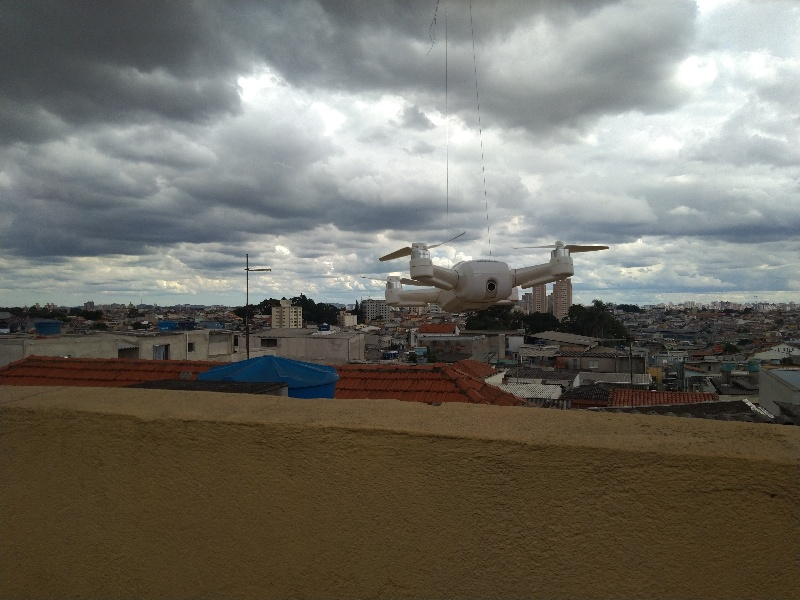drone: (368, 228, 613, 322)
